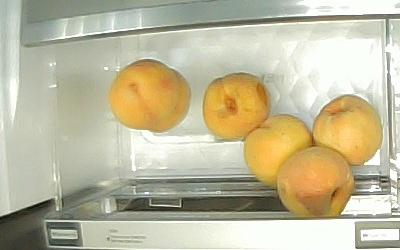peach: (108, 58, 191, 132), (276, 146, 354, 217), (312, 94, 383, 165), (243, 114, 312, 186), (202, 73, 270, 140), (148, 67, 193, 134)
